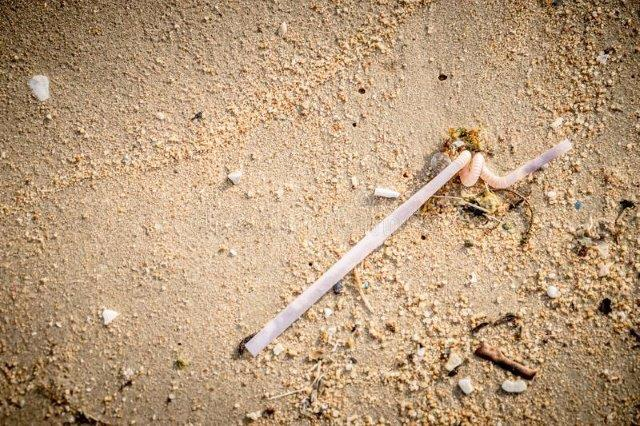sedotan: (247, 141, 571, 358)
